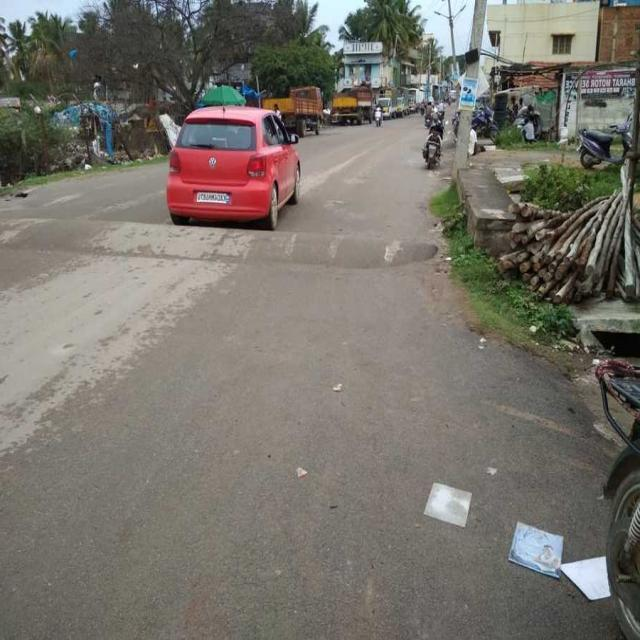speedbreaker: (0, 217, 443, 273)
